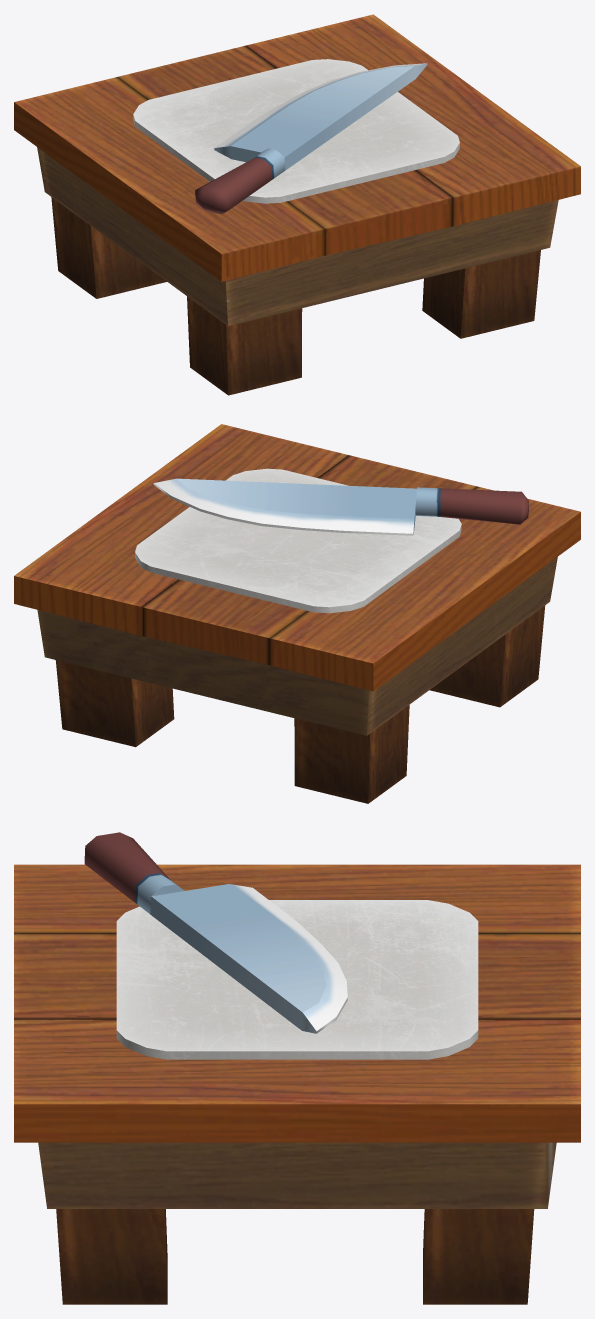
Rendered from Moving Object C.fbx.
The picture shows the model from 3 angles, top to bottom: view 1: azimuth 30°, elevation 25°; view 2: azimuth 150°, elevation 25°; view 3: azimuth 270°, elevation 25°; orthographic projection. The views are drawn at different scales.
Parts seen in each view (by area): view 1: Worktop, ChoppingBoard2, Knife; view 2: Worktop, ChoppingBoard2, Knife; view 3: Worktop, ChoppingBoard2, Knife.
Part boxes in pixels (left/top/right/bottom): Worktop: left=14, top=14, right=580, bottom=395; ChoppingBoard2: left=133, top=59, right=459, bottom=203; Knife: left=195, top=63, right=427, bottom=214; Worktop: left=14, top=424, right=580, bottom=803; ChoppingBoard2: left=135, top=468, right=461, bottom=613; Knife: left=153, top=478, right=528, bottom=535; Worktop: left=14, top=864, right=580, bottom=1304; ChoppingBoard2: left=116, top=900, right=478, bottom=1059; Knife: left=84, top=832, right=347, bottom=1033.
Bounding box in the file's own units: 1.2 × 0.6324 × 1.2.
3 materials, 3 textured.
